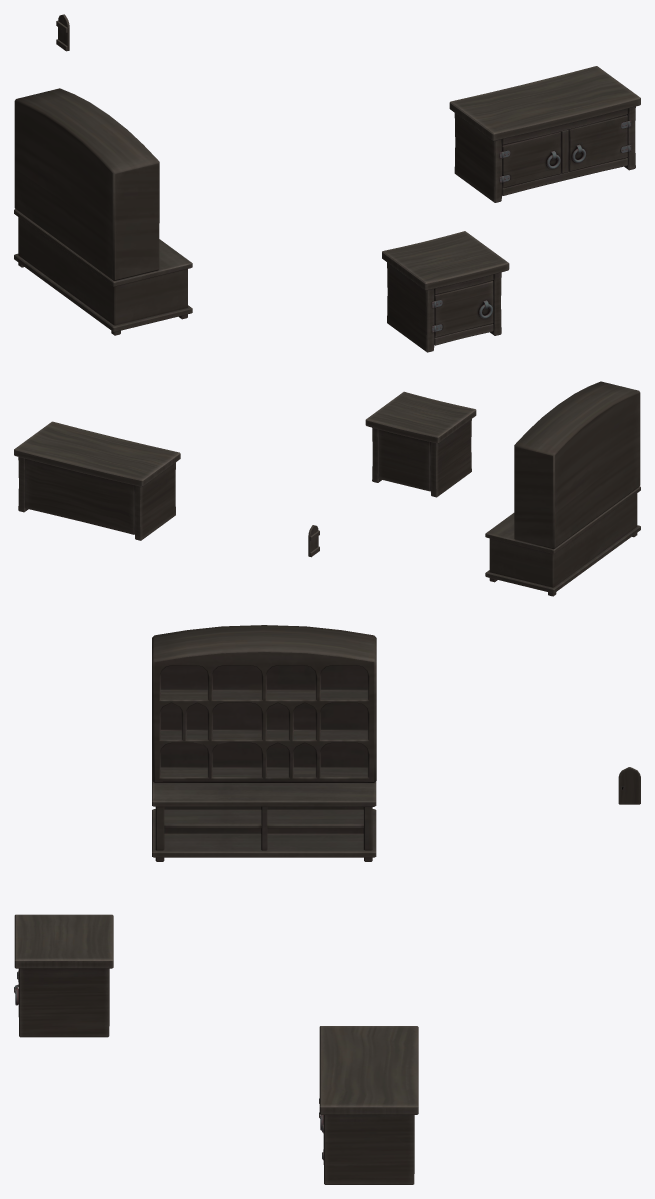
File: m_Furniture_G1.fbx
3 views of the same model, one above another, from view 1: azimuth 30°, elevation 25°; view 2: azimuth 150°, elevation 25°; view 3: azimuth 270°, elevation 25° (orthographic). The views are drawn at different scales.
Parts seen in each view (by area): view 1: BookShelf, Cabinet_2u, Cabinet_1u; view 2: BookShelf, Cabinet_2u, Cabinet_1u, PotionShelf_Door; view 3: BookShelf, Cabinet_2u, Cabinet_1u, PotionShelf_Door.
Boxes of the visible parts, x1=… form: BookShelf: x1=14, y1=88, x2=192, y2=335; Cabinet_2u: x1=449, y1=66, x2=640, y2=202; Cabinet_1u: x1=382, y1=231, x2=509, y2=352; BookShelf: x1=485, y1=381, x2=640, y2=596; Cabinet_2u: x1=14, y1=421, x2=180, y2=540; Cabinet_1u: x1=365, y1=391, x2=476, y2=497; PotionShelf_Door: x1=308, y1=525, x2=319, y2=557; BookShelf: x1=152, y1=625, x2=376, y2=861; Cabinet_2u: x1=319, y1=1026, x2=418, y2=1184; Cabinet_1u: x1=14, y1=914, x2=113, y2=1037; PotionShelf_Door: x1=618, y1=767, x2=640, y2=804.
Bounding box in the file's own units: 510 × 169 × 410.
